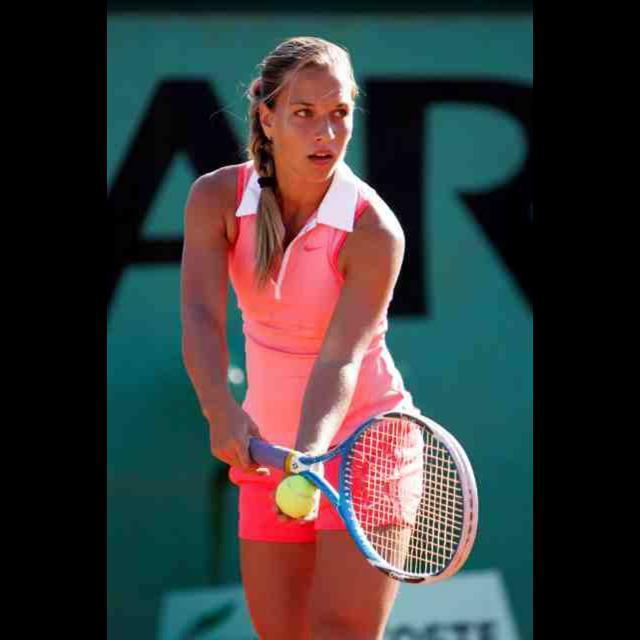tennis-ball: (273, 473, 319, 520)
